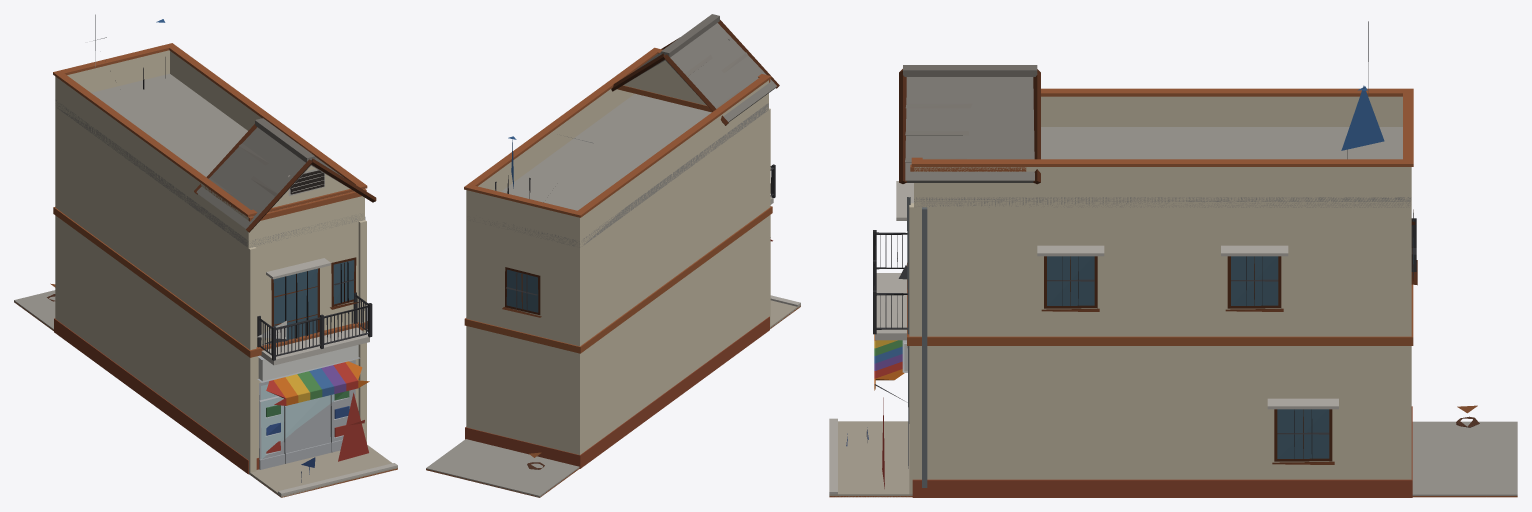
The model's file is bay1_right.glb.
3 renders of one model, left to right at view 1: azimuth 30°, elevation 25°; view 2: azimuth 150°, elevation 25°; view 3: azimuth 270°, elevation 25°, orthographic. The views are drawn at different scales.
Visible parts, largest first — view 1: body, windows; view 2: body, windows; view 3: body, windows.
Part boxes in pixels (bbox=[...]): body: bbox=[14, 14, 397, 497]; windows: bbox=[273, 170, 354, 342]; body: bbox=[426, 14, 800, 497]; windows: bbox=[506, 269, 538, 312]; body: bbox=[829, 21, 1517, 497]; windows: bbox=[1047, 213, 1413, 458].
Bounding box in the file's own units: 4.66 × 10.75 × 15.9.
